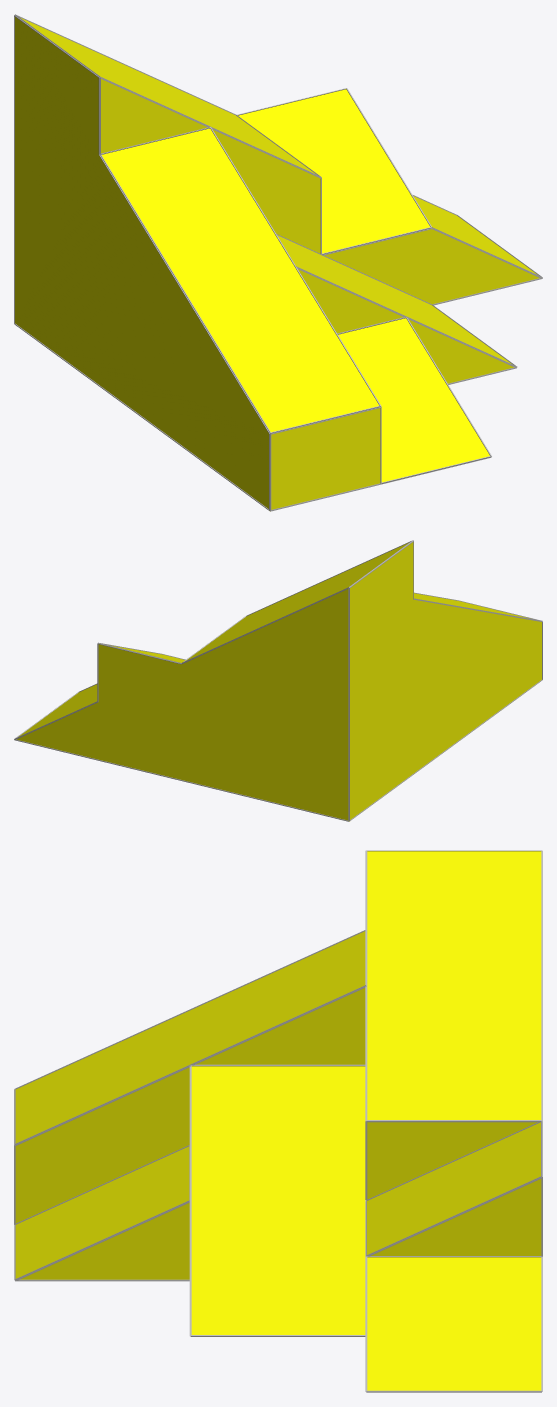
The model's file is PecaH.glb.
The picture shows the model from 3 angles, top to bottom: view 1: azimuth 30°, elevation 25°; view 2: azimuth 150°, elevation 25°; view 3: azimuth 270°, elevation 25°; orthographic projection. The views are drawn at different scales.
Parts seen in each view (by area): view 1: Sólido1.001; view 2: Sólido1.001; view 3: Sólido1.001.
Part boxes in pixels (left/top/right/bottom): Sólido1.001: left=14, top=14, right=542, bottom=511; Sólido1.001: left=14, top=540, right=542, bottom=821; Sólido1.001: left=14, top=850, right=542, bottom=1392.
Bounding box in the file's own units: 0.0602 × 0.0402 × 0.0602.
